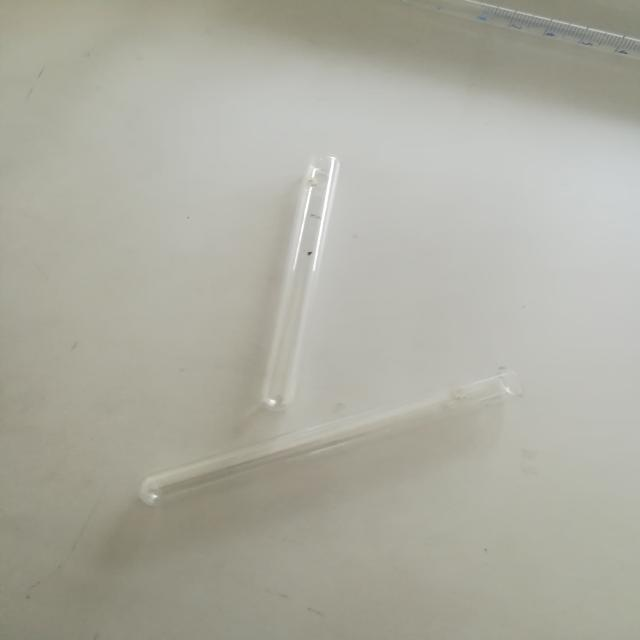Test_Tube: (79, 367, 553, 524), (239, 103, 358, 424)
